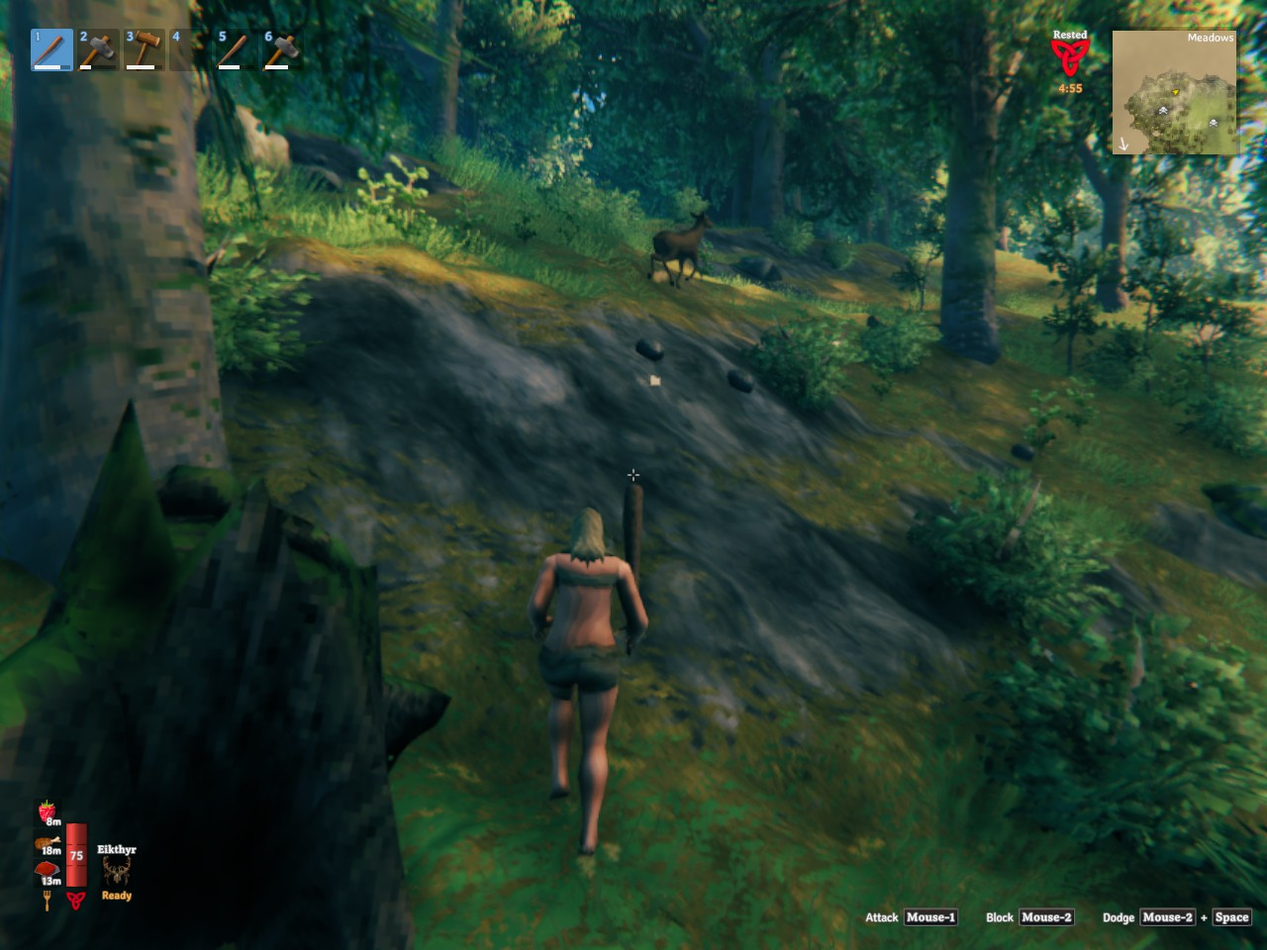Club: (624, 482, 641, 581)
Deer: (648, 213, 713, 287)
Food Indicator: (36, 797, 63, 891)
Health Bar: (63, 820, 90, 891)
Hotbar: (25, 21, 398, 78)
Status Indicator: (1039, 25, 1106, 101)
Stone: (727, 369, 752, 393), (635, 340, 663, 360), (1011, 442, 1035, 461)
